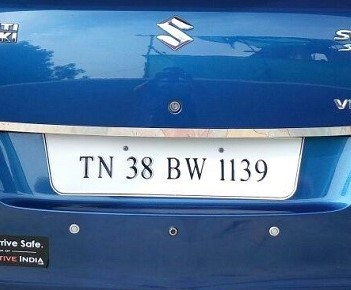TN38BW1139: (41, 134, 305, 200)
